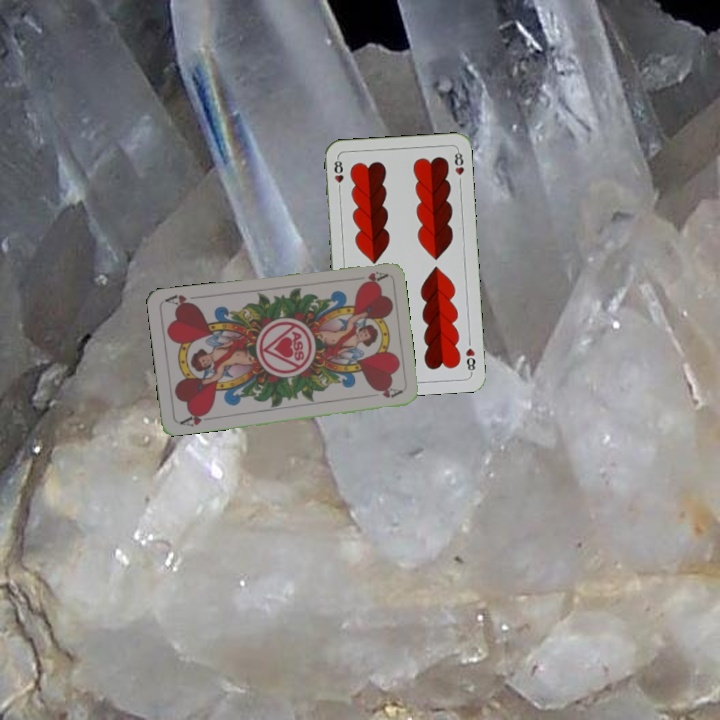H8: (330, 154, 346, 195), (461, 344, 478, 376)
HA: (176, 407, 212, 429), (355, 267, 389, 288)
